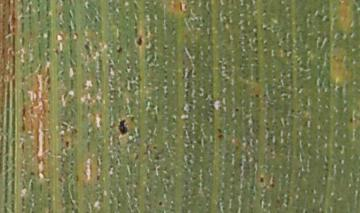tarspot: (114, 116, 131, 140), (133, 34, 147, 48), (255, 172, 267, 184), (62, 138, 73, 151), (114, 44, 125, 56), (213, 126, 226, 136), (155, 198, 166, 209), (231, 105, 241, 115)
